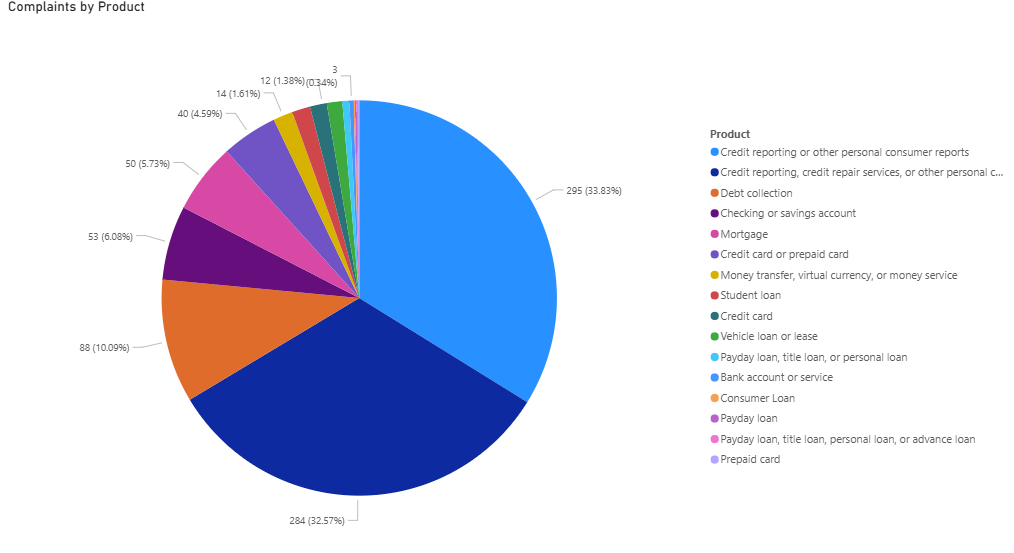

The dashboard page shown, as its layout file describes it:
{"tool":"powerbi","page":{"name":"Page 1","canvas":[1280,720],"ordinal":0},"visuals":[{"type":"pieChart","title":"Complaints by Product","fields":{"Category":["powerbi_cleaned (2).Product"],"Y":["CountNonNull(powerbi_cleaned (2).Complaint ID)"]},"box":[10.3,0,1248.5,720.8],"z":0}]}

Visuals, with their boxes on the page's 1280x720 design canvas (x1, y1, x2, y2). These are canvas units, not pixel positions in the 1014x553 screenshot, which may show the page scaled, cropped or inside an application window:
"Complaints by Product" pieChart: x1=10 y1=0 x2=1259 y2=721
